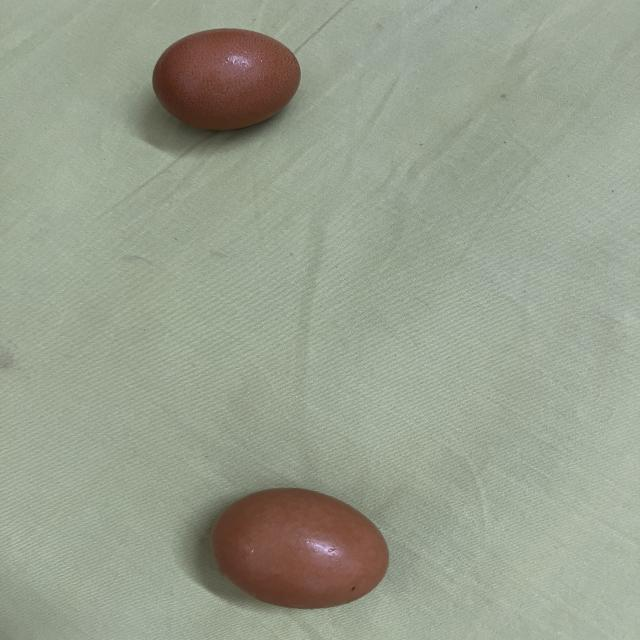egg: (200, 480, 400, 610), (150, 24, 308, 132)
